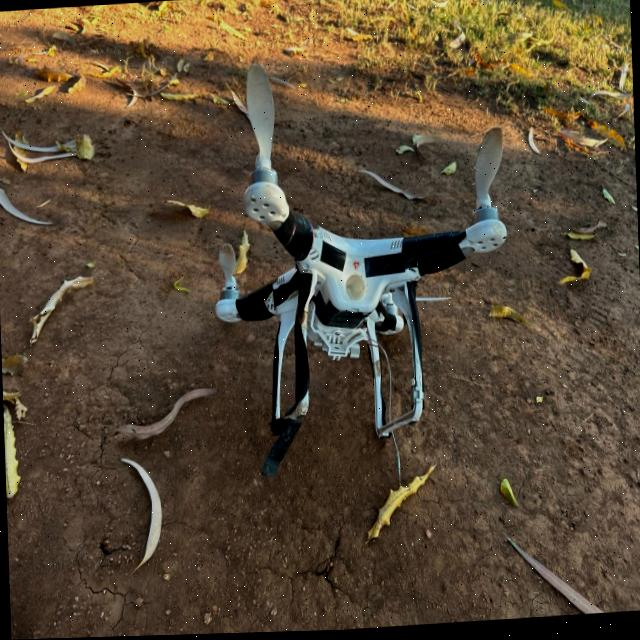drone: (194, 69, 554, 520)
